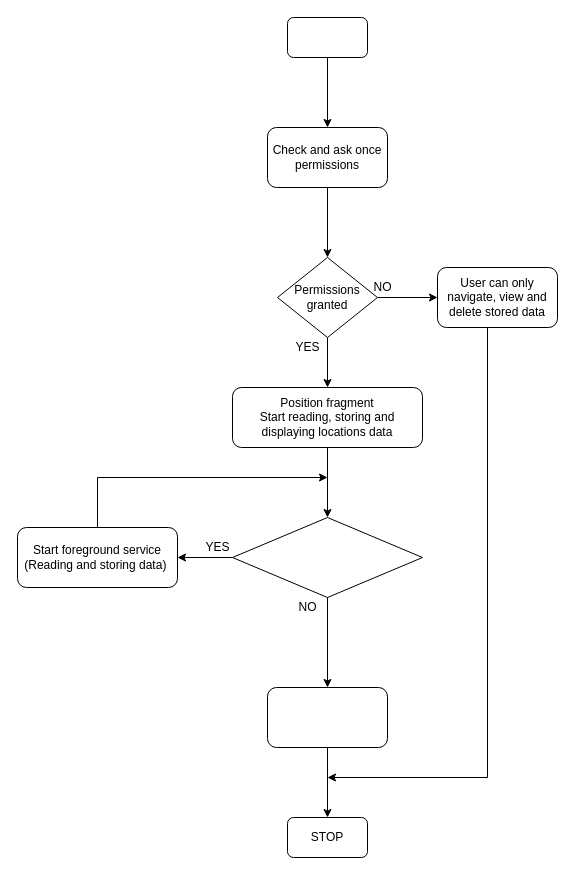
Some shapes in this 575 by 875 pixel diagram are drawn without their labels. The centre of each missing label's shape, as x and y in pixels:
"START" goes at point 327,37.
"Stop reading and storing locations" goes at point 327,717.
"Tab changing or app exit after enable foreground service" goes at point 327,557.
